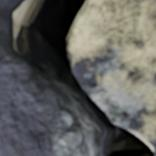broken_brick: (0, 0, 89, 155), (71, 0, 155, 145)
crack: (2, 0, 155, 155)
